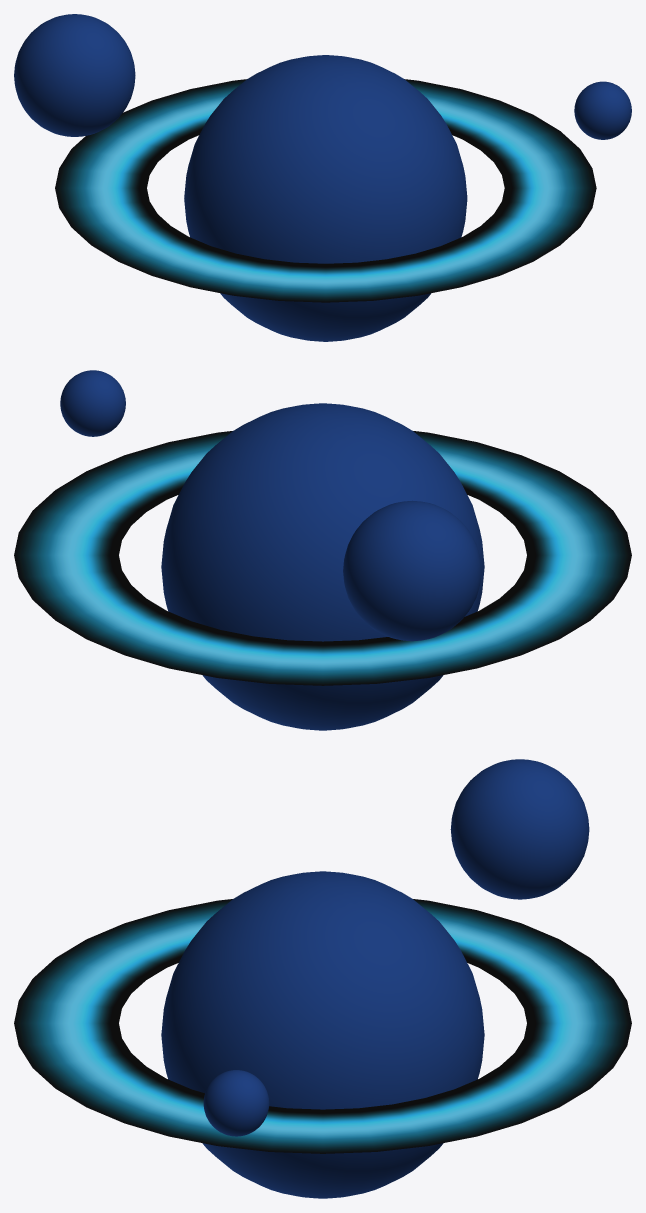
Rendered from ts_dtxz011.FBX.
The picture shows the model from 3 angles, top to bottom: view 1: azimuth 30°, elevation 25°; view 2: azimuth 150°, elevation 25°; view 3: azimuth 270°, elevation 25°; orthographic projection. The views are drawn at different scales.
Parts seen in each view (by area): view 1: ts_dtxz011, ts_dtxz011c, ts_dtxz011b; view 2: ts_dtxz011c, ts_dtxz011, ts_dtxz011b; view 3: ts_dtxz011, ts_dtxz011c, ts_dtxz011b.
Boxes of the visible parts, bbox=[...] form: ts_dtxz011: bbox=[184, 55, 467, 341]; ts_dtxz011c: bbox=[55, 79, 596, 302]; ts_dtxz011b: bbox=[14, 14, 631, 139]; ts_dtxz011c: bbox=[14, 431, 631, 685]; ts_dtxz011: bbox=[161, 403, 484, 730]; ts_dtxz011b: bbox=[60, 370, 481, 641]; ts_dtxz011: bbox=[161, 871, 484, 1198]; ts_dtxz011c: bbox=[14, 899, 631, 1153]; ts_dtxz011b: bbox=[203, 759, 589, 1136].
Size of the model in its own units: 10.73 by 5.92 by 10.09.
